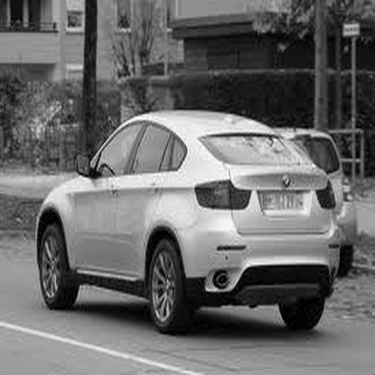car: (25, 99, 340, 338), (242, 113, 359, 282)
